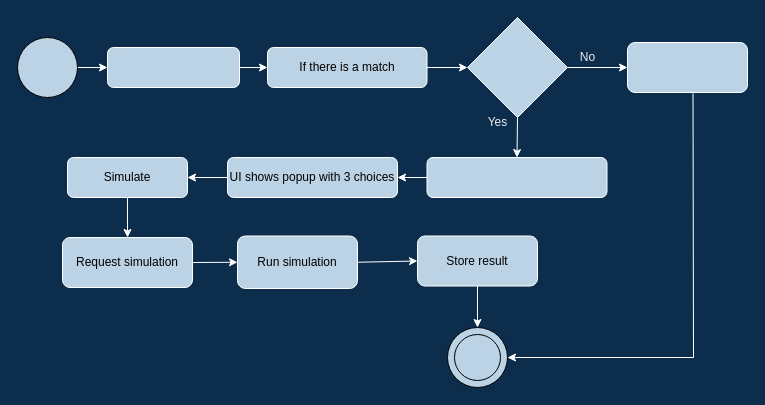
This 765x405 diagram has some shape labels left out. Each missing label, with the centre of its shape:
Display there's no upcoming match: the point at 687,67
Fetch match info (next-match): the point at 516,177
User Click "Next Match: the point at 173,67
